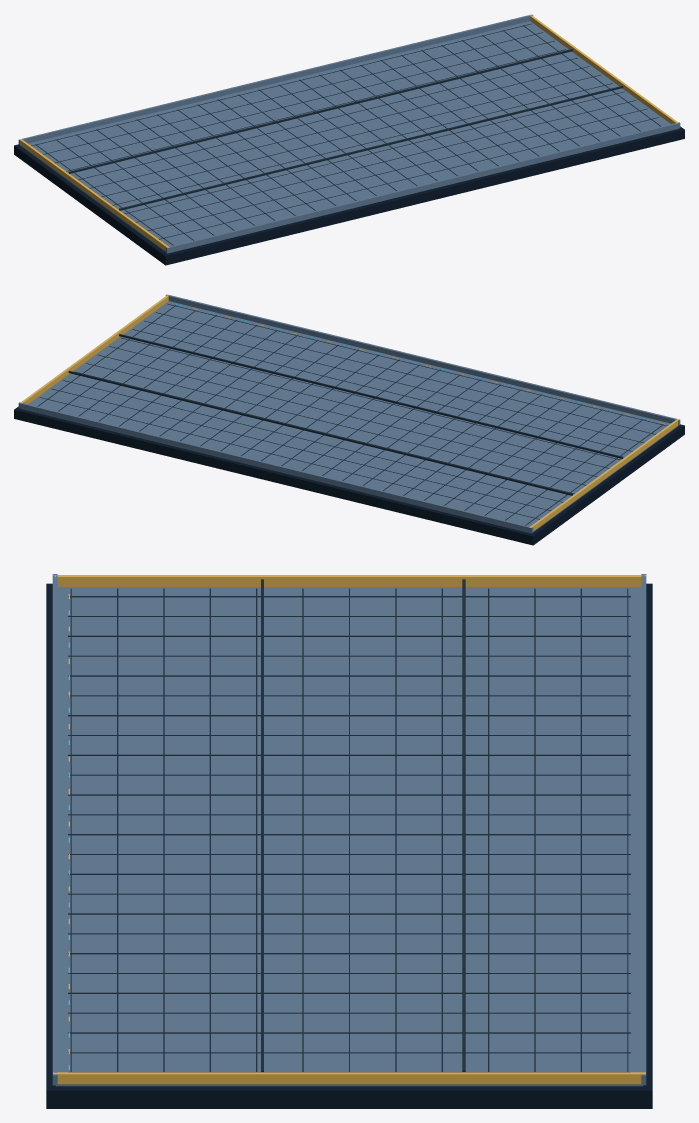
The model's file is 00_L83_OrbitalEnergyQualificationArenaBase.fbx.
3 views of the same model, one above another, from view 1: azimuth 30°, elevation 25°; view 2: azimuth 150°, elevation 25°; view 3: azimuth 270°, elevation 25° (orthographic). The views are drawn at different scales.
Visible parts, largest first — view 1: OrbitalEnergyQualificationArenaBase; view 2: OrbitalEnergyQualificationArenaBase; view 3: OrbitalEnergyQualificationArenaBase.
Part boxes in pixels (<box>): OrbitalEnergyQualificationArenaBase: <box>14,14,684,265</box>; OrbitalEnergyQualificationArenaBase: <box>14,294,684,545</box>; OrbitalEnergyQualificationArenaBase: <box>46,574,652,1108</box>.
Size of the model in its own units: 2620 by 74 by 1325.
